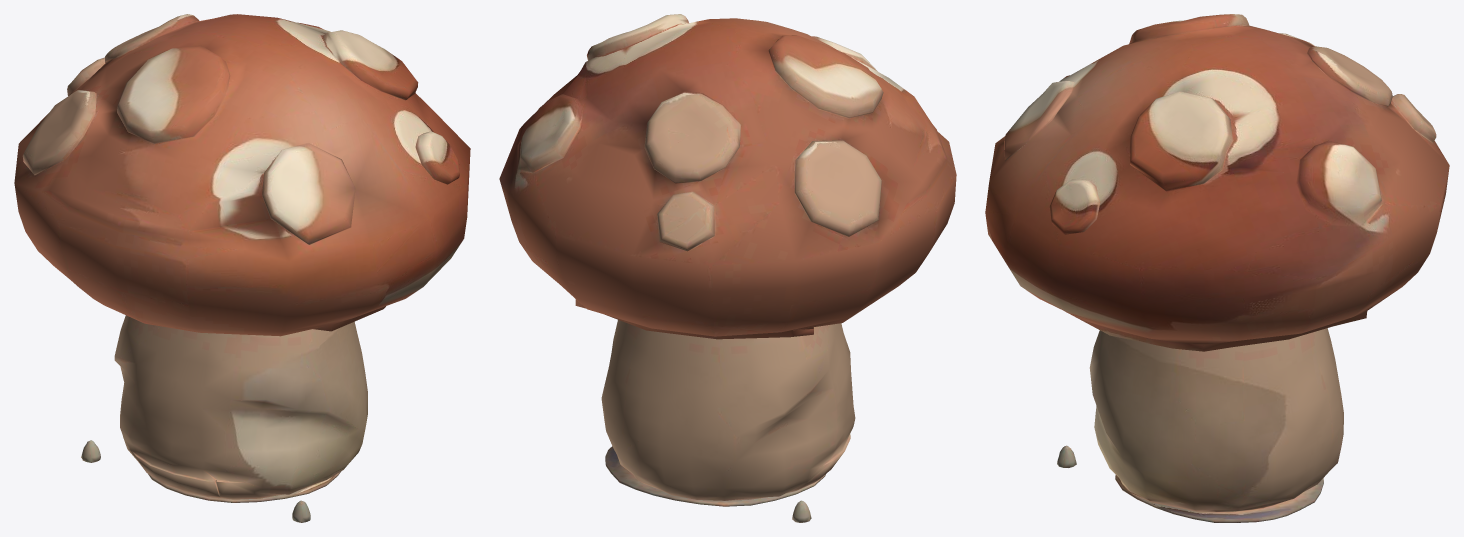
Rendered from champi-mere-jeu-OWUYSR7S.glb.
3 views of the same model, side by side, from view 1: azimuth 30°, elevation 25°; view 2: azimuth 150°, elevation 25°; view 3: azimuth 270°, elevation 25° (orthographic).
Parts seen in each view (by area): view 1: champi-mere; view 2: champi-mere; view 3: champi-mere.
Boxes of the visible parts, x1=… form: champi-mere: x1=14, y1=14, x2=470, y2=522; champi-mere: x1=499, y1=14, x2=956, y2=522; champi-mere: x1=985, y1=14, x2=1449, y2=522.
Bounding box in the file's own units: 1.79 × 1.86 × 1.82.
Materials: 1 (1 with a texture image).
